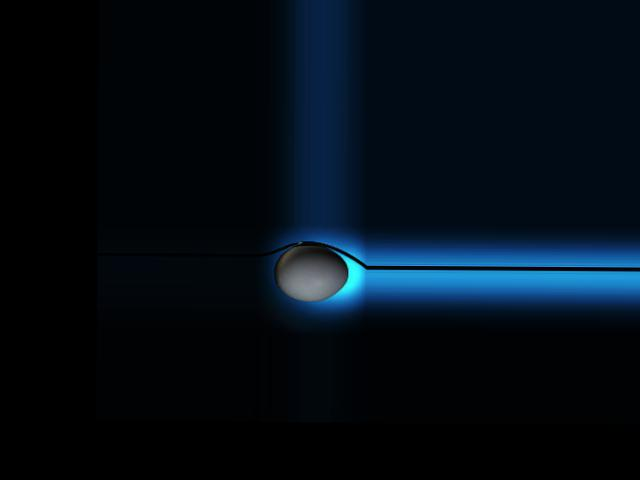egg: (273, 244, 348, 301)
